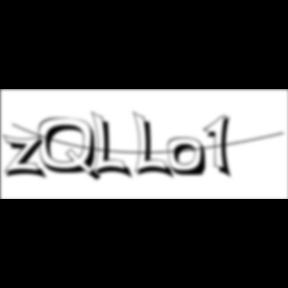1: (202, 114, 237, 182)
L: (92, 110, 136, 182), (133, 110, 177, 182)
Q: (38, 117, 104, 184)
o: (167, 137, 209, 179)
z: (2, 134, 52, 182)
